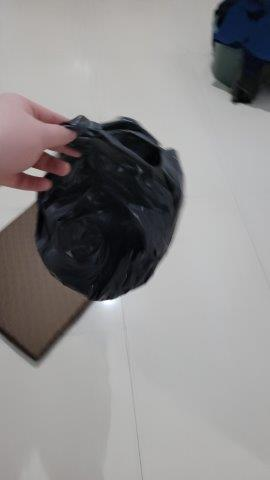plastik: (33, 116, 184, 302)
